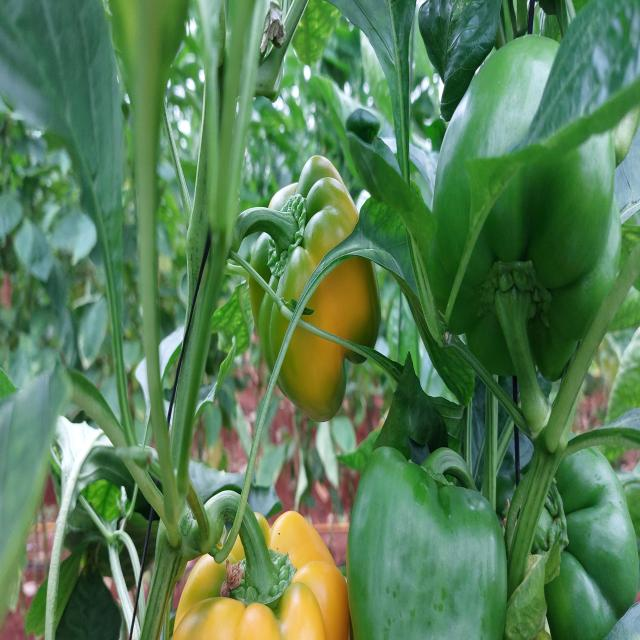Green--Not-ready-to-harvest: (431, 64, 631, 388), (377, 467, 512, 640), (541, 442, 640, 640)
GreenishYellow--Can-be-Harvested: (263, 179, 393, 445), (167, 491, 357, 640)
